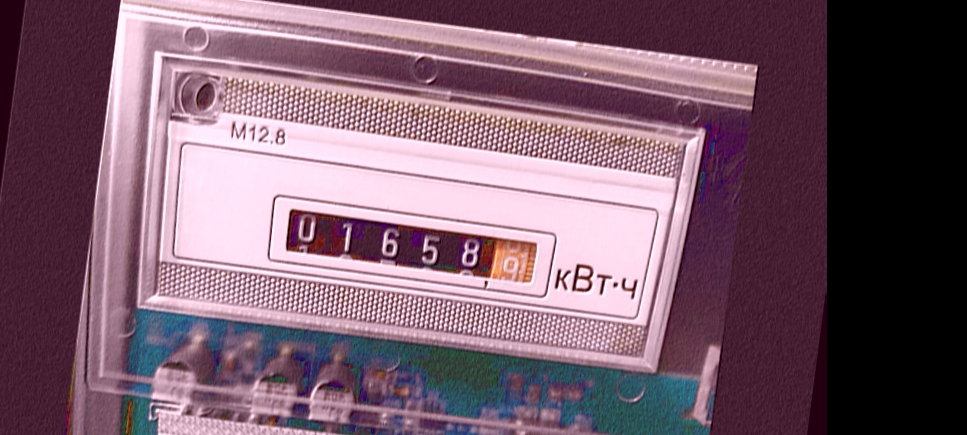0: (296, 212, 320, 244)
1: (338, 220, 359, 254)
5: (419, 233, 444, 266)
6: (379, 225, 404, 260)
8: (460, 235, 484, 270)
9: (498, 254, 523, 285)
screen: (256, 185, 564, 306)
